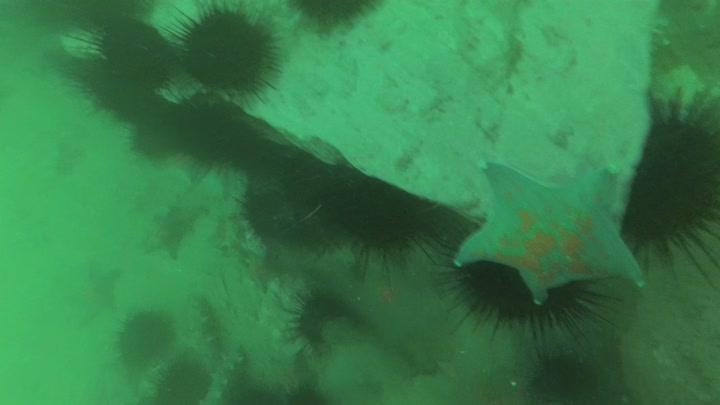urchin: (633, 97, 720, 248), (305, 170, 420, 263), (456, 260, 586, 336), (176, 8, 278, 102), (96, 27, 169, 97), (240, 185, 297, 241), (113, 310, 172, 357), (298, 1, 383, 33), (145, 362, 210, 402)
